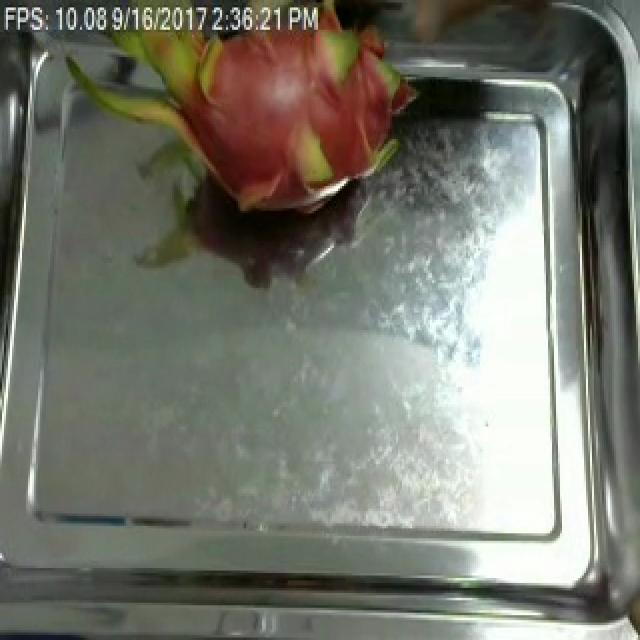fruit: (46, 2, 430, 258)
